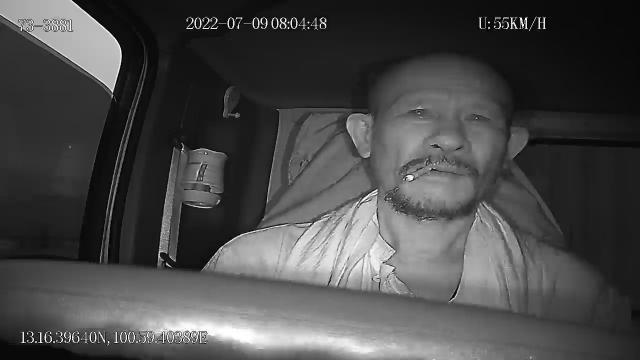SafeDriving: (396, 97, 444, 127), (457, 101, 498, 132)
Smoking: (404, 167, 434, 183)
